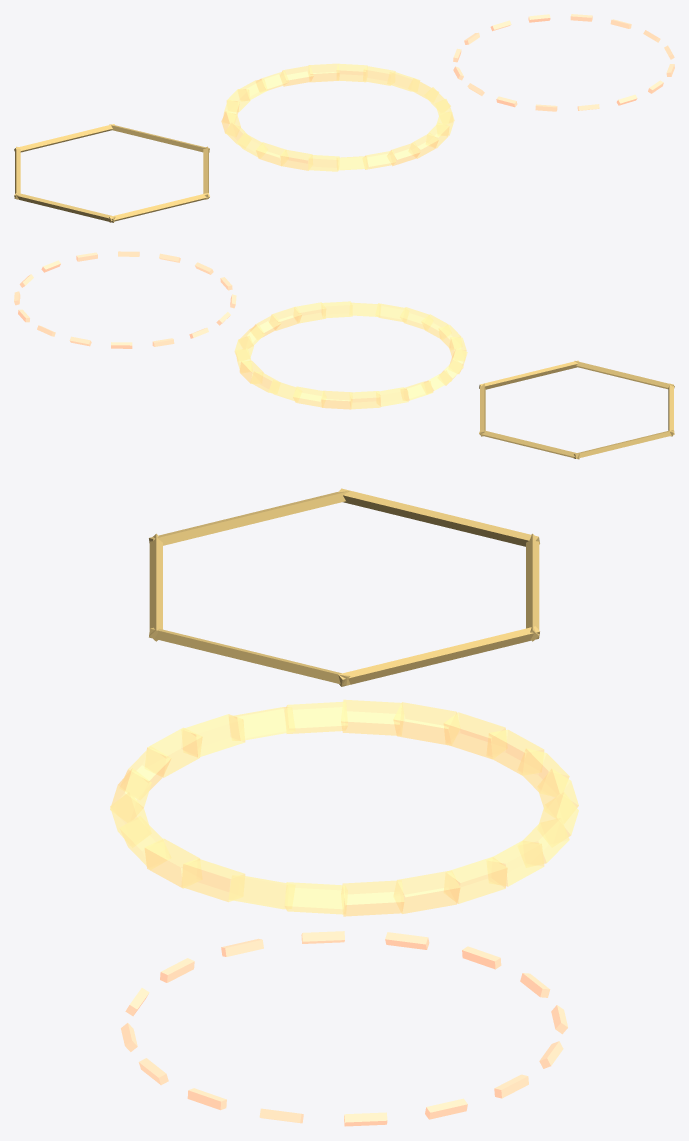
File: FX_AegisShockwaves.fbx
3 views of the same model, one above another, from view 1: azimuth 30°, elevation 25°; view 2: azimuth 150°, elevation 25°; view 3: azimuth 270°, elevation 25° (orthographic). The views are drawn at different scales.
Visible parts, largest first — view 1: AShock_SoftRing, AShock_HexRing, AShock_Dashed; view 2: AShock_SoftRing, AShock_HexRing, AShock_Dashed; view 3: AShock_SoftRing, AShock_HexRing, AShock_Dashed.
Boxes of the visible parts, x1,y1,x2,y2 form: AShock_SoftRing: (221,63,454,171); AShock_HexRing: (14,124,209,222); AShock_Dashed: (453,14,674,111); AShock_SoftRing: (234,301,467,409); AShock_HexRing: (479,360,674,459); AShock_Dashed: (14,251,236,348); AShock_SoftRing: (110,699,578,916); AShock_HexRing: (149,488,539,686); AShock_Dashed: (121,931,567,1126).
Size of the model in its own units: 6.86 by 0.1586 by 2.16.
